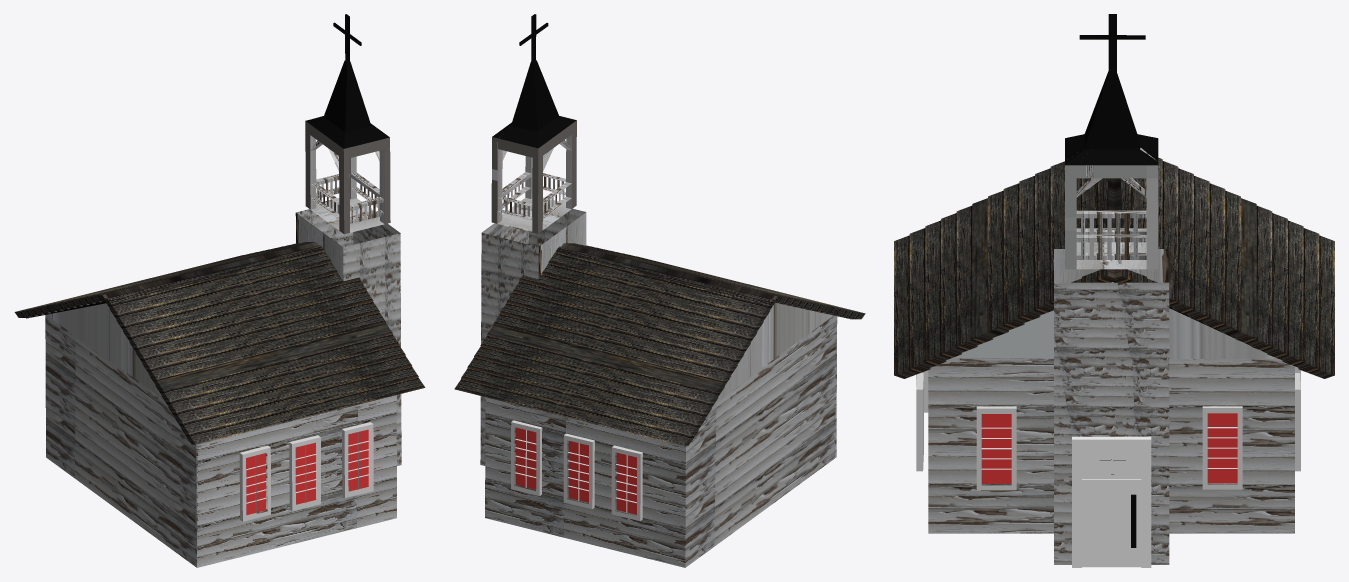
Rendered from scary_church (1).glb.
3 renders of one model, left to right at view 1: azimuth 30°, elevation 25°; view 2: azimuth 150°, elevation 25°; view 3: azimuth 270°, elevation 25°, orthographic. The views are drawn at different scales.
Parts seen in each view (by area): view 1: Cube.002_19, Cube.006_18, Cubo_17, Cubo.002_16, Cube_21, Cubo.003_15, Cube.003_22, Cubo.015_6, Cubo.014_7, Cubo.013_8, Cubo.017_4; view 2: Cube.002_19, Cube.003_22, Cubo_17, Cubo.002_16, Cube_21, Cubo.003_15, Cube.006_18, Cubo.012_9, Cubo.011_10, Cubo.009_12; view 3: Cube.002_19, Cube.003_22, Cube.006_18, Cubo_17, Cubo.004_14, Cubo.002_16, Cube_21, Cubo.003_15, Cubo.008_13, Cubo.010_11, Piano_3, Cubo.014_7 (+1 smaller).
Boxes of the visible parts, x1,y1,x2,y2 form: Cube.002_19: [45, 315, 396, 567]; Cube.006_18: [104, 241, 425, 444]; Cubo_17: [295, 209, 401, 465]; Cubo.002_16: [305, 121, 390, 234]; Cube_21: [46, 303, 396, 566]; Cubo.003_15: [305, 60, 389, 148]; Cube.003_22: [14, 238, 332, 317]; Cubo.015_6: [289, 435, 320, 510]; Cubo.014_7: [342, 422, 373, 497]; Cubo.013_8: [239, 445, 270, 521]; Cubo.017_4: [350, 197, 383, 223]; Cube.002_19: [485, 315, 837, 567]; Cube.003_22: [454, 243, 774, 446]; Cubo_17: [480, 208, 586, 465]; Cubo.002_16: [491, 120, 576, 233]; Cube_21: [700, 302, 834, 556]; Cubo.003_15: [492, 60, 576, 148]; Cube.006_18: [547, 239, 865, 319]; Cubo.012_9: [611, 445, 642, 521]; Cubo.011_10: [563, 433, 594, 509]; Cubo.009_12: [511, 420, 542, 495]; Cube.002_19: [928, 358, 1294, 533]; Cube.003_22: [1111, 157, 1334, 378]; Cube.006_18: [894, 161, 1117, 378]; Cubo_17: [1054, 249, 1169, 564]; Cubo.004_14: [1072, 436, 1151, 567]; Cubo.002_16: [1065, 148, 1158, 269]; Cube_21: [928, 282, 1294, 533]; Cubo.003_15: [1065, 69, 1158, 165]; Cubo.008_13: [976, 406, 1016, 490]; Cubo.010_11: [1202, 406, 1242, 489]; Piano_3: [1079, 14, 1145, 72]; Cubo.014_7: [916, 373, 923, 471].
Bounding box in the file's own units: 2.79 × 4.22 × 3.14.
13 materials, 5 textured.
